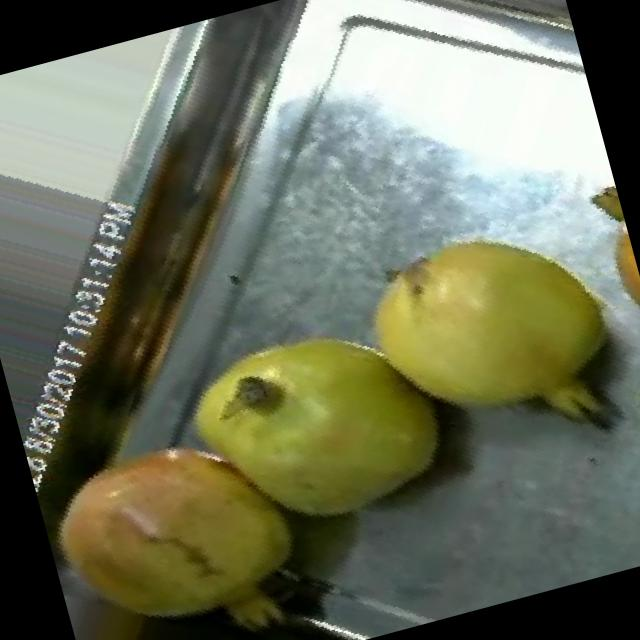fruit: (321, 170, 640, 488), (22, 378, 335, 640), (557, 156, 640, 374)
